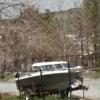Boat: (10, 57, 88, 97)
